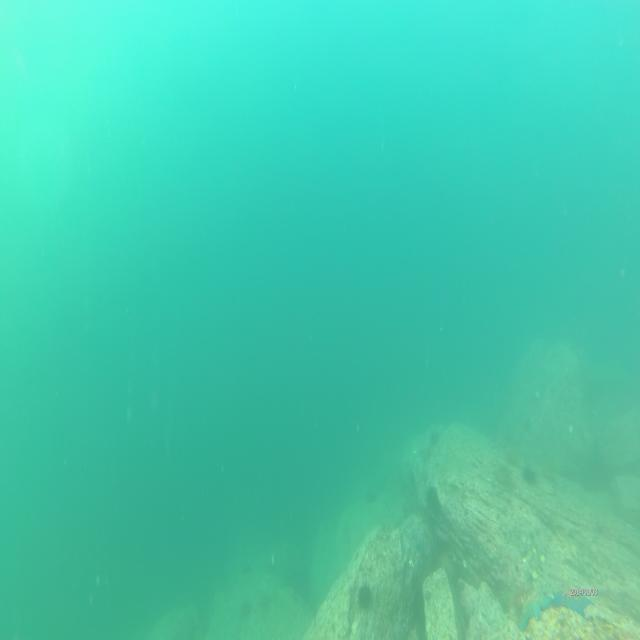echinus: (436, 547, 457, 588), (494, 462, 514, 498), (422, 483, 440, 518), (540, 457, 559, 488), (521, 462, 537, 490), (238, 593, 254, 621), (357, 584, 374, 610), (428, 429, 441, 452)
starfish: (518, 588, 551, 632), (551, 584, 593, 618)
